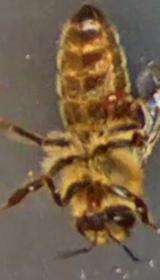varroa_mite: (92, 77, 130, 112)
